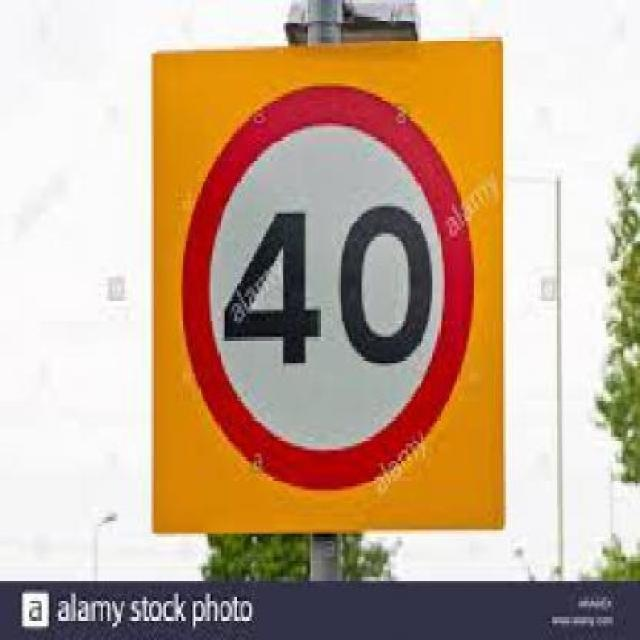forb_speed_over_40: (185, 87, 472, 487)
